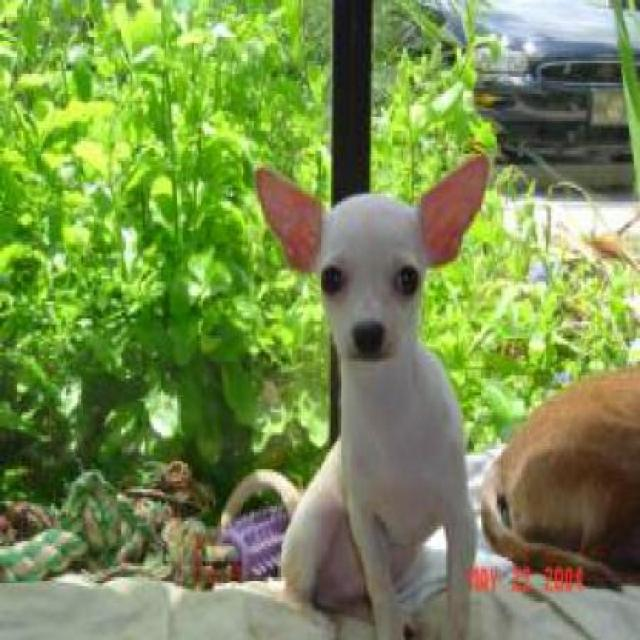Dog: (251, 142, 497, 630)
